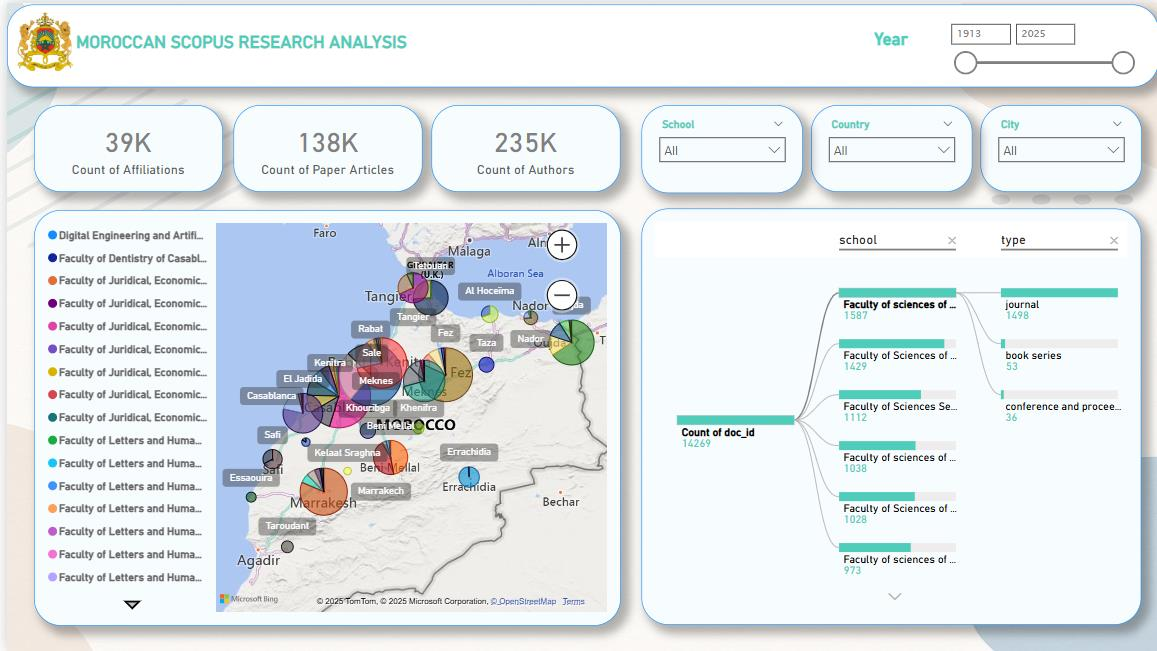

Layout of this report page (visuals, bound fields, positions):
{"tool":"powerbi","page":{"name":"Dashboard1","canvas":[1280,720],"ordinal":0},"visuals":[{"type":"card","fields":{"Values":["Metrics.CountAffiliations"]},"box":[30.2,113.4,210,96.4],"z":0},{"type":"card","fields":{"Values":["Metrics.CountArticles"]},"box":[251.3,113.4,210,96.4],"z":1000},{"type":"card","fields":{"Values":["Metrics.countAuthors"]},"box":[472.4,113.4,210,96.4],"z":2000},{"type":"decompositionTreeVisual","fields":{"Analyze":["CountNonNull(Metadata.doc_id)"],"ExplainBy":["Affiliation.school","Journal.type"]},"box":[704.9,228.7,555.6,463],"z":3000},{"type":"slicer","fields":{"Values":["Affiliation.city"]},"box":[1081,113.4,179.5,96.4],"z":4000},{"type":"slicer","fields":{"Values":["Affiliation.country"]},"box":[893.9,113.4,179.5,96.4],"z":5000},{"type":"slicer","fields":{"Values":["Affiliation.school"]},"box":[704.9,113.4,179.5,98.3],"z":6000},{"type":"map","fields":{"Category":["Affiliation.city"],"Series":["Affiliation.school"],"Size":["CountNonNull(Metadata.doc_id)"]},"box":[29.3,229.3,652.2,461.9],"z":7000},{"type":"textbox","box":[0,2,1280,92],"z":8000},{"type":"image","box":[0,0,84.5,84.5],"z":9000},{"type":"textbox","box":[71.8,26.5,393.1,41.6],"z":10000},{"type":"slicer","fields":{"Values":["Metadata.year"]},"box":[1026,3.3,244,86.7],"z":11000},{"type":"textbox","box":[958,24,68,34.7],"z":12000}]}

Visuals, with their boxes in screenshot pixels (x1, y1, x2, y2), scaled from the page's 1280x720 canvas onto the 1157x651 screenshot:
card - Metrics.CountAffiliations: 27,103,217,190
card - Metrics.CountArticles: 227,103,417,190
card - Metrics.countAuthors: 427,103,617,190
decompositionTreeVisual - CountNonNull(Metadata.doc_id) x Affiliation.school: 637,207,1139,625
slicer - Affiliation.city: 977,103,1139,190
slicer - Affiliation.country: 808,103,970,190
slicer - Affiliation.school: 637,103,799,191
map - Affiliation.city x Affiliation.school: 26,207,616,625
textbox: 0,2,1156,85
image: 0,0,76,76
textbox: 65,24,420,62
slicer - Metadata.year: 927,3,1148,81
textbox: 866,22,927,53
